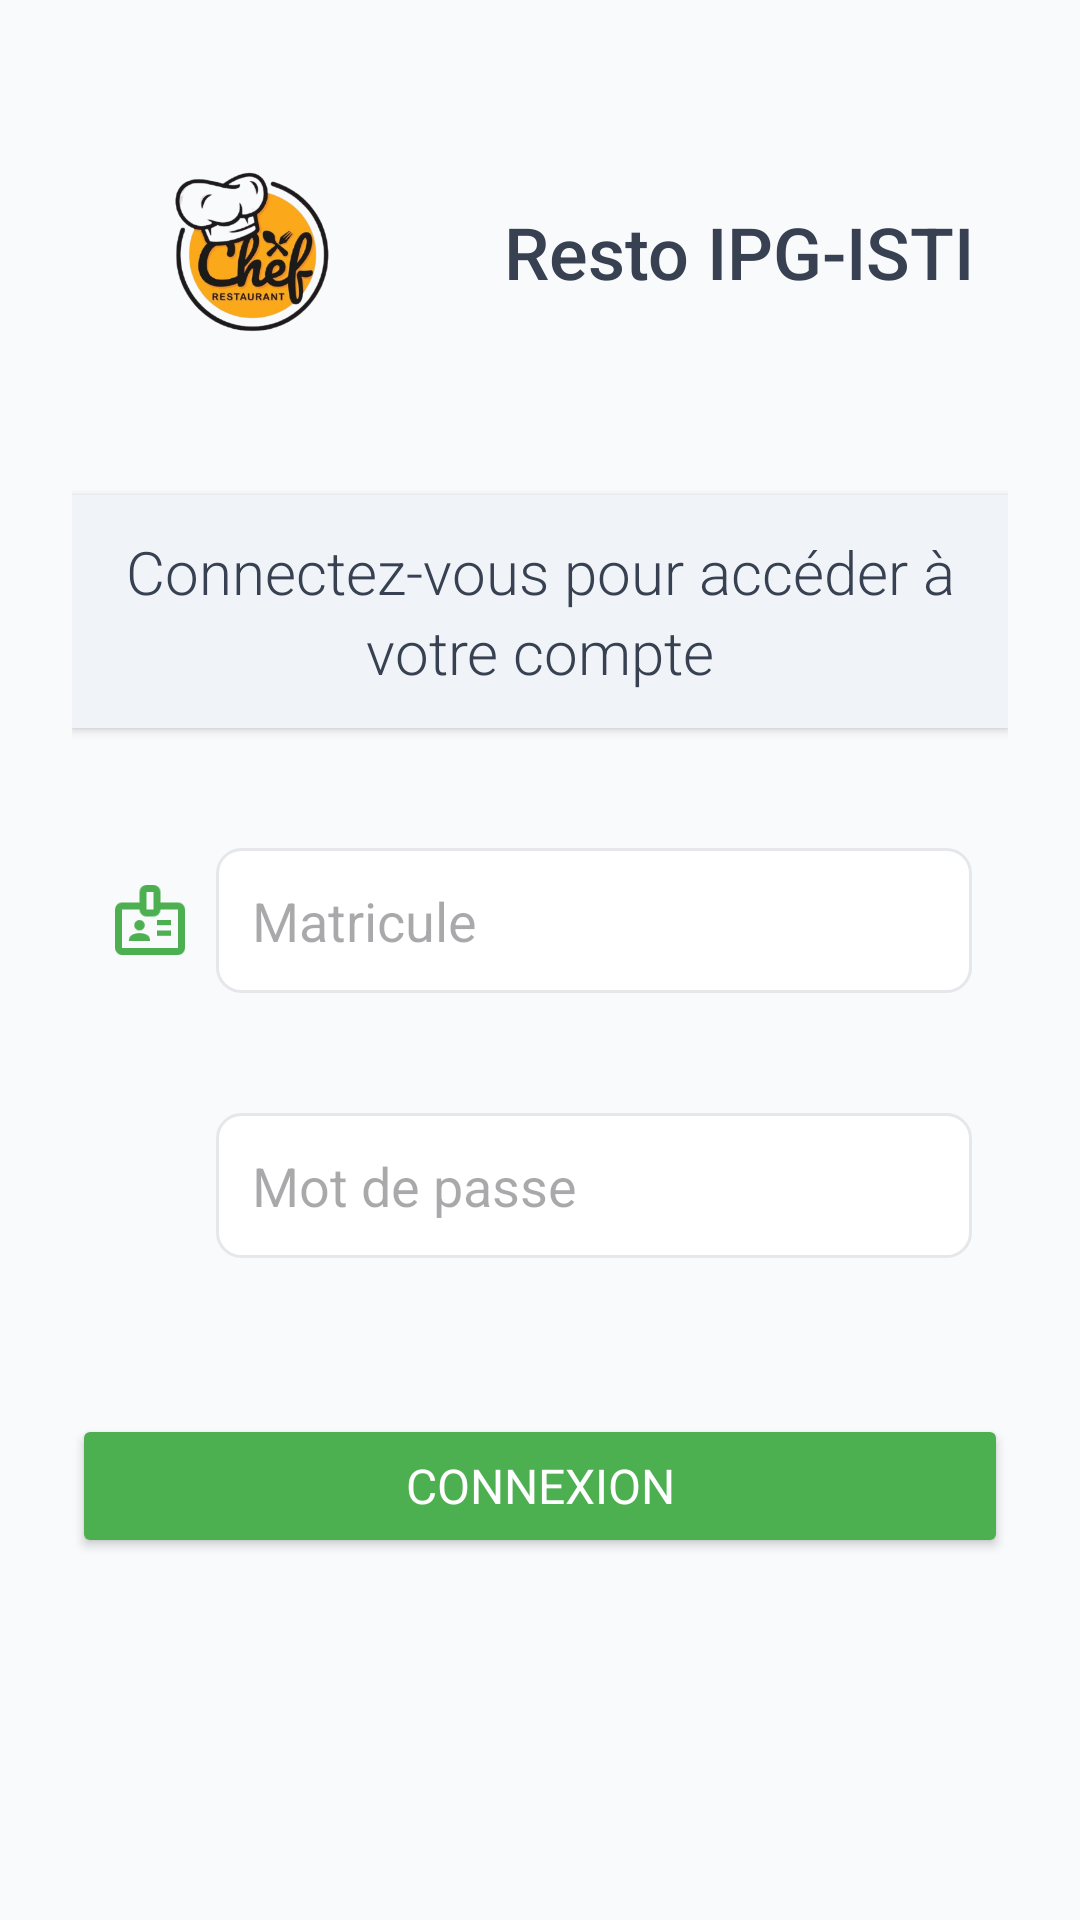

Locate icon controls on the screen. Image size 1080 × 1920, boxes as rect(x1, y1, x2, y2).
id card: rect(115, 885, 185, 955)
